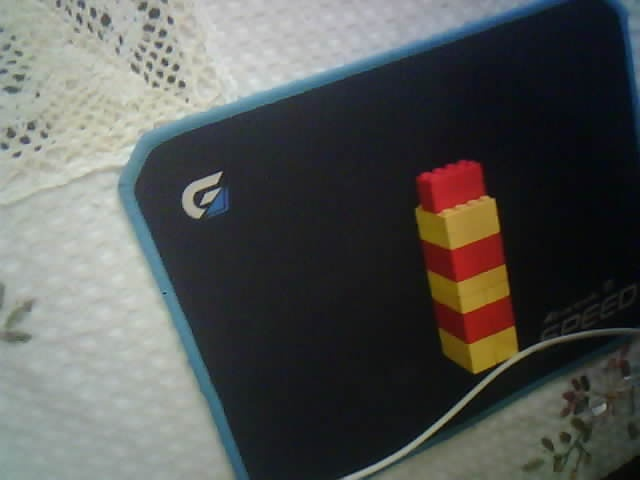lego: (413, 158, 519, 375)
